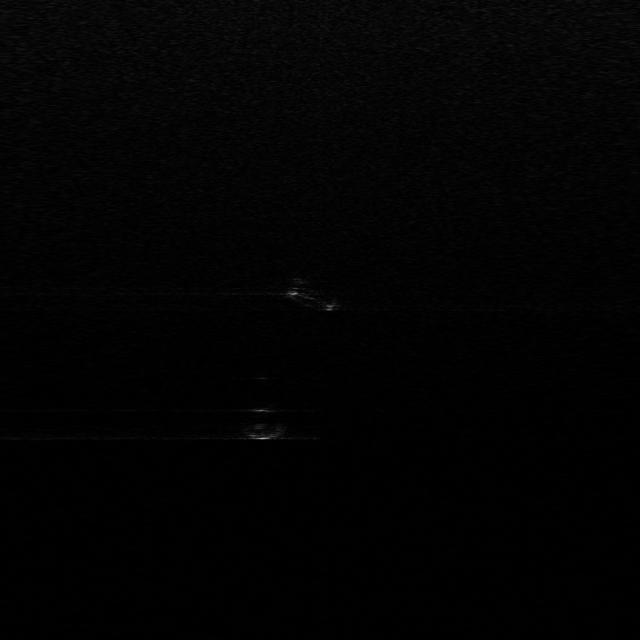ball: (238, 408, 288, 439)
tyre: (280, 278, 342, 312)
